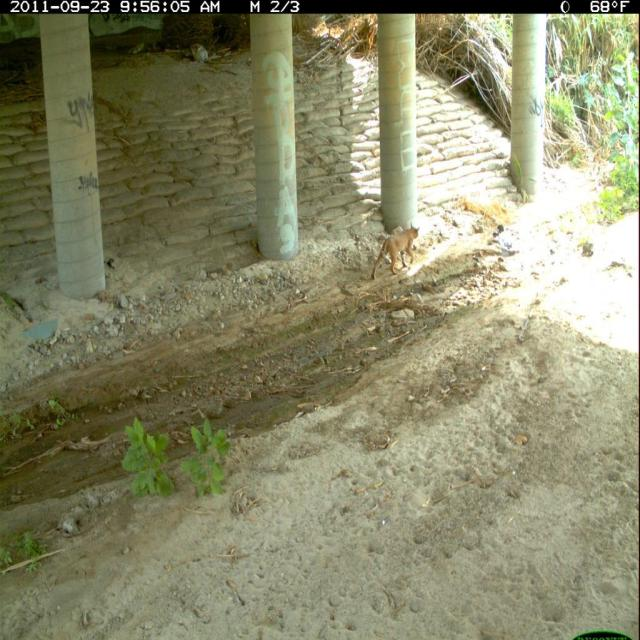bobcat: (369, 218, 425, 286)
